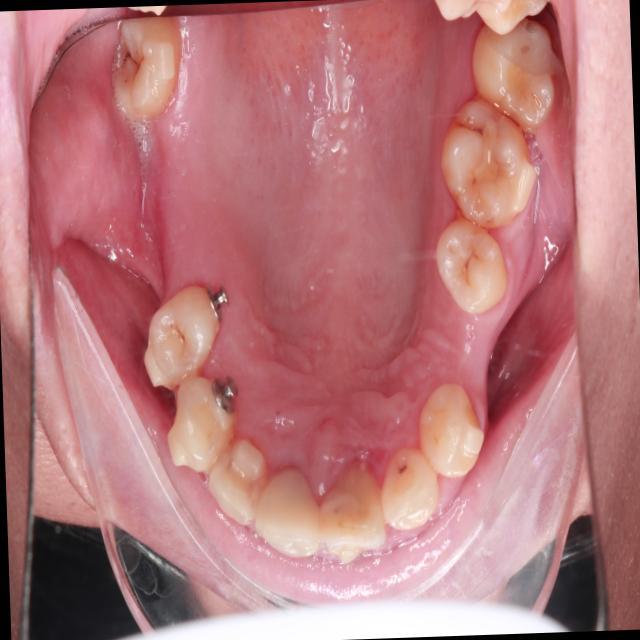tooth: (431, 86, 546, 234), (465, 4, 567, 144), (129, 269, 231, 407), (407, 373, 494, 489), (427, 211, 514, 325), (160, 366, 246, 478), (252, 452, 334, 569), (312, 455, 393, 573), (103, 19, 192, 126), (377, 441, 446, 543), (204, 438, 276, 533)
